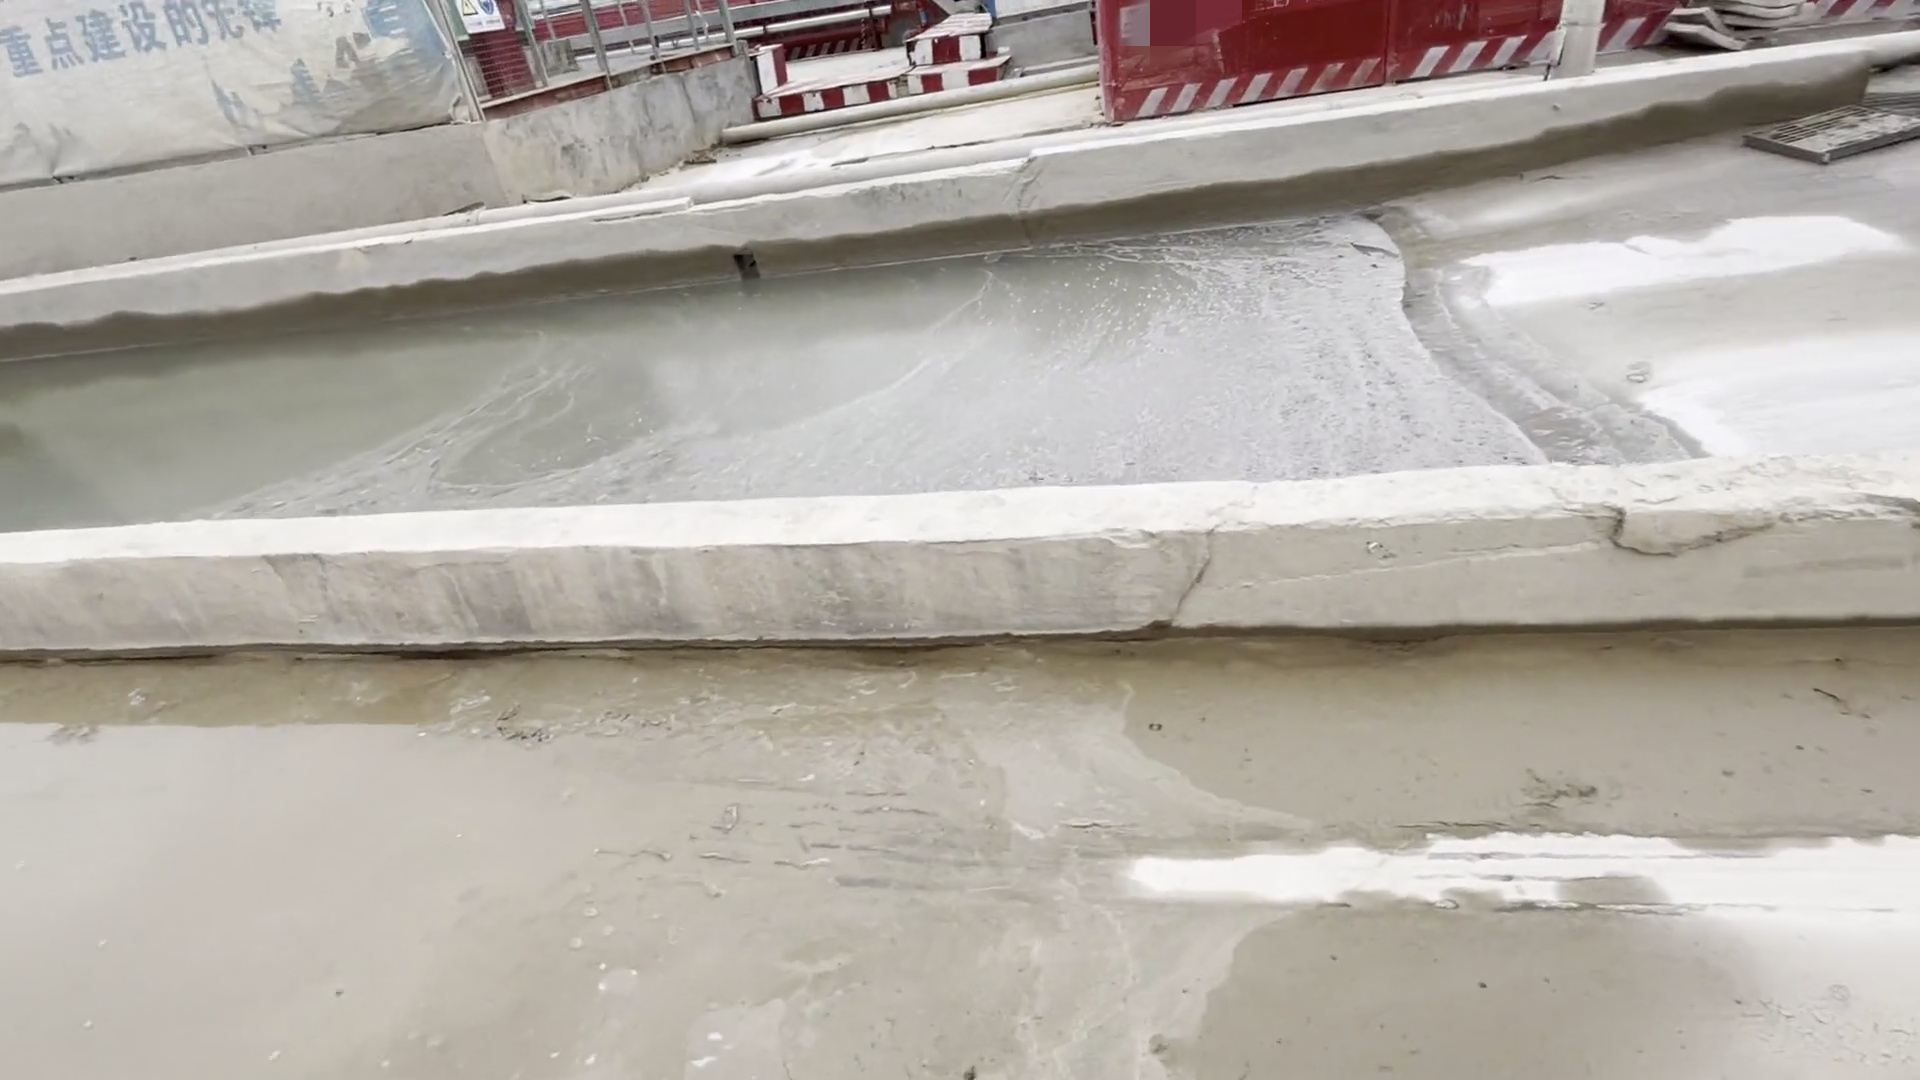slogan: (1, 1, 320, 84)
